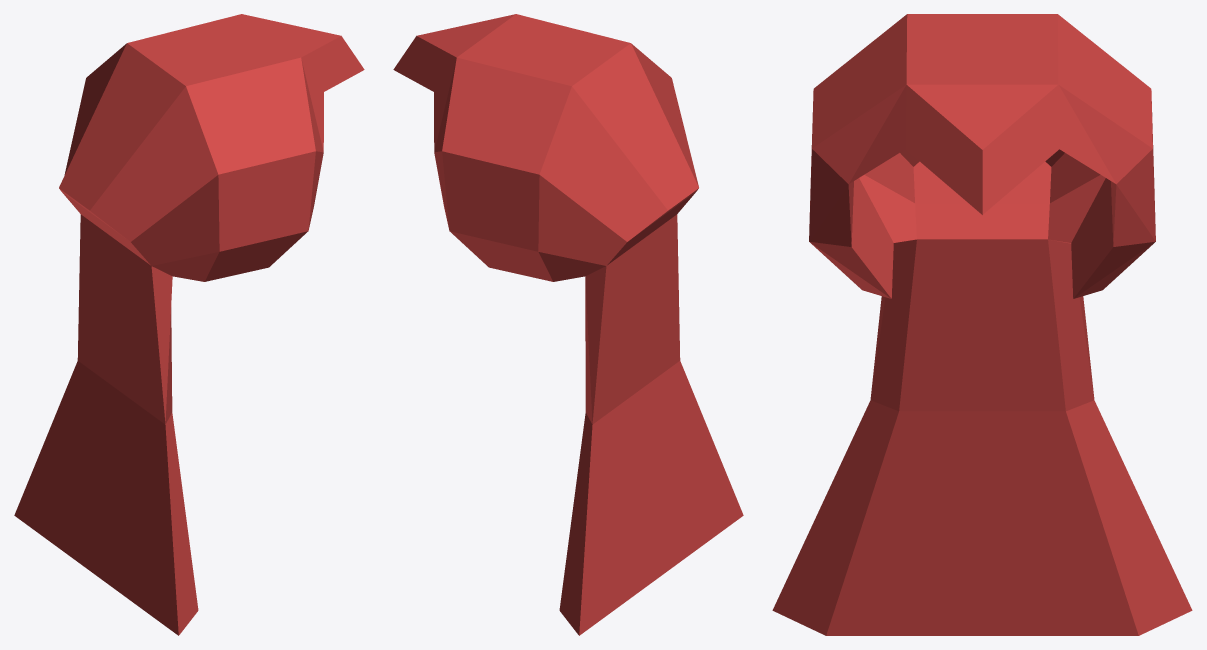
Rendered from HunterHead.fbx.
3 views of the same model, side by side, from view 1: azimuth 30°, elevation 25°; view 2: azimuth 150°, elevation 25°; view 3: azimuth 270°, elevation 25° (orthographic). The views are drawn at different scales.
Parts seen in each view (by area): view 1: Hunter Cloak; view 2: Hunter Cloak; view 3: Hunter Cloak.
Part boxes in pixels (x1=…): Hunter Cloak: x1=14, y1=14, x2=364, y2=635; Hunter Cloak: x1=393, y1=14, x2=743, y2=635; Hunter Cloak: x1=772, y1=14, x2=1192, y2=635.
Size of the model in its own units: 413 by 675 by 405.
